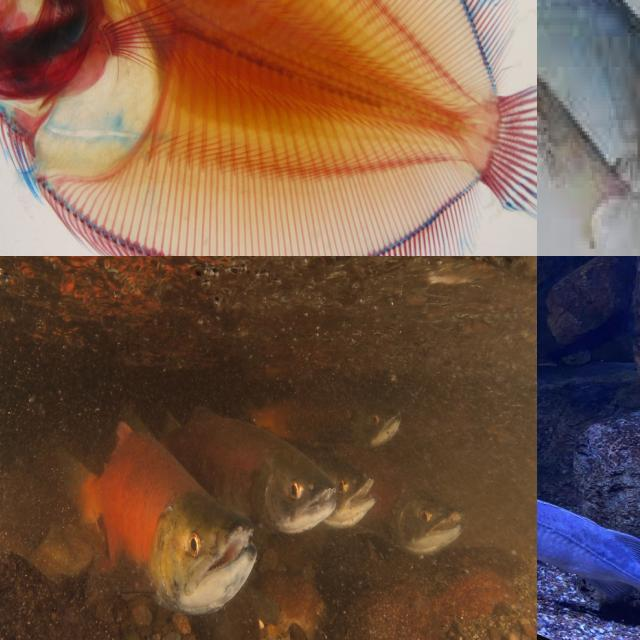fish: (0, 0, 537, 256), (62, 420, 257, 640), (537, 0, 640, 256)
